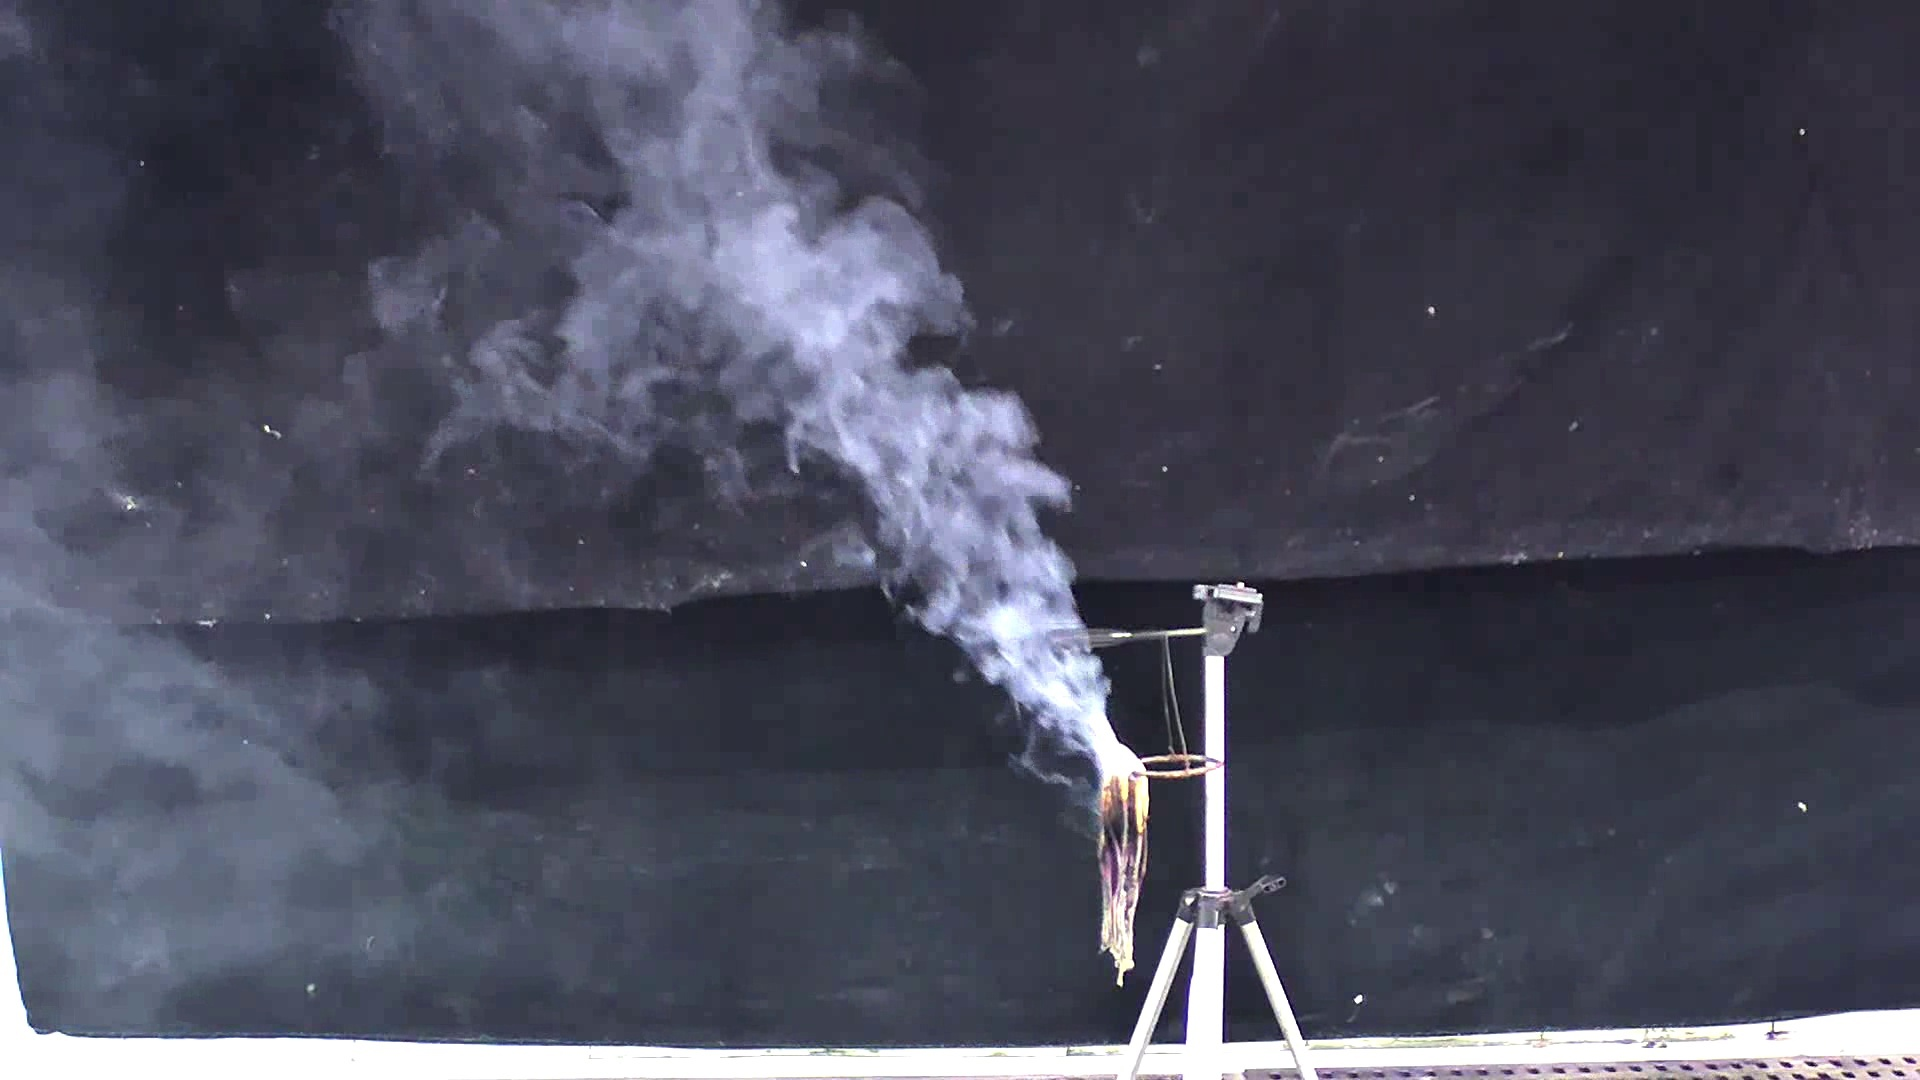smoke: (345, 9, 1160, 822)
